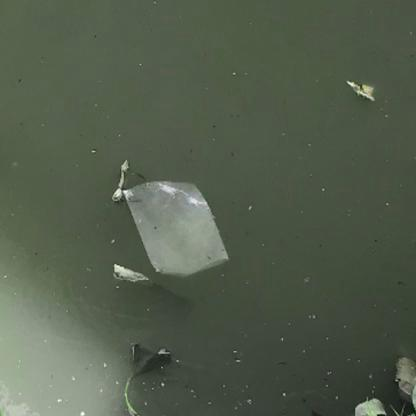Trash: (124, 181, 228, 276), (106, 170, 136, 204), (112, 262, 146, 290)
